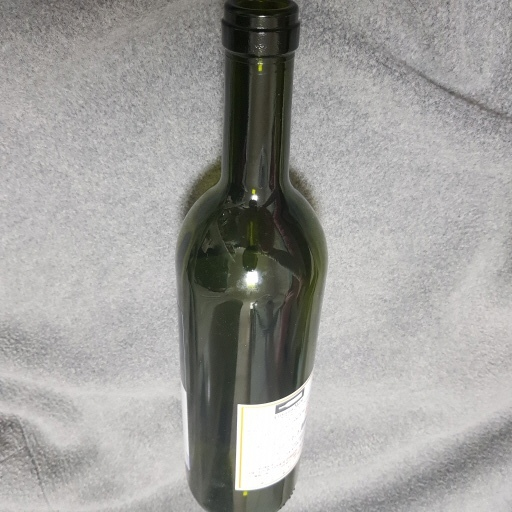Glass_2: (168, 3, 332, 512)
